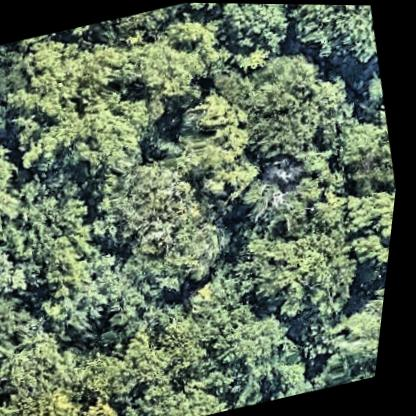tree-top: (78, 146, 252, 311), (207, 37, 369, 173), (15, 66, 169, 188), (176, 262, 319, 393), (238, 204, 377, 334), (0, 166, 119, 306), (233, 137, 368, 255), (162, 78, 276, 211), (9, 25, 131, 133), (121, 14, 231, 102), (93, 277, 206, 359), (0, 323, 102, 407), (327, 101, 408, 204), (265, 3, 381, 74), (83, 328, 190, 402), (36, 275, 130, 359), (334, 178, 401, 291), (323, 274, 392, 380), (124, 357, 246, 416), (201, 2, 295, 68), (6, 373, 145, 416), (0, 124, 45, 247), (0, 49, 44, 134), (0, 282, 52, 349), (0, 231, 35, 304), (0, 45, 7, 98)
